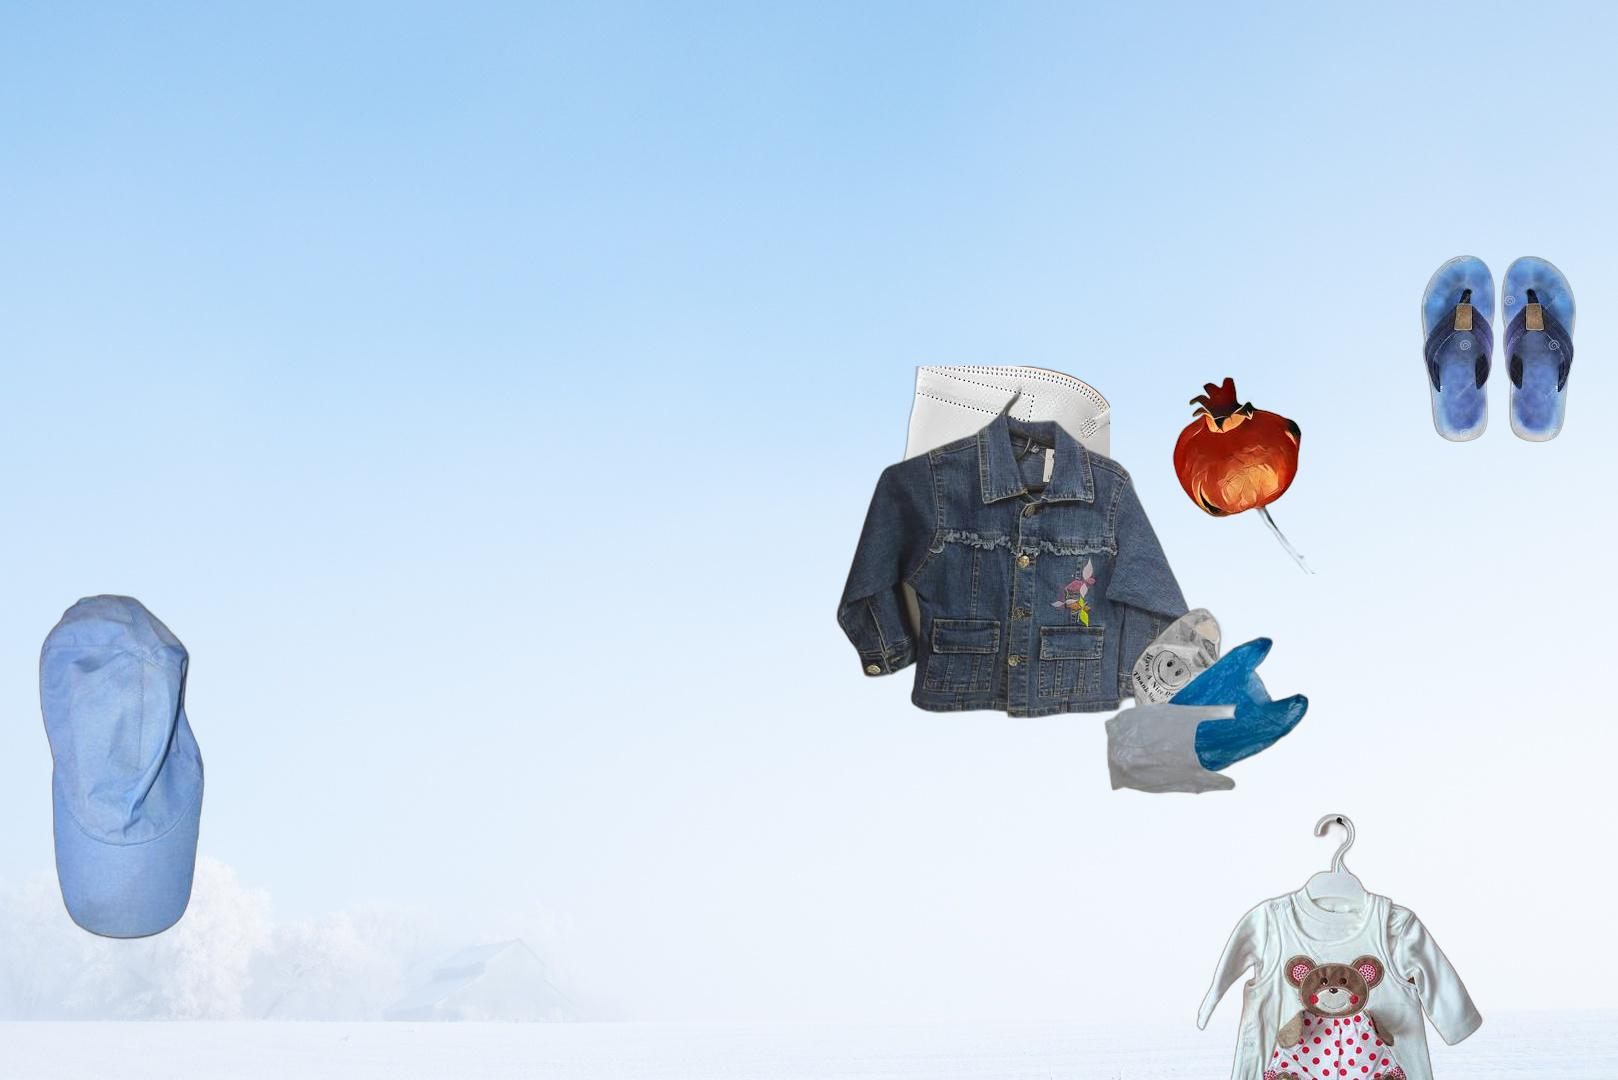biological: (1170, 375, 1317, 574)
clothes: (834, 378, 1198, 723), (1193, 810, 1485, 1080), (36, 592, 208, 941)
plastic-bag: (1104, 606, 1310, 797)
shoes: (1419, 254, 1578, 444)
trash: (892, 366, 1110, 589)
